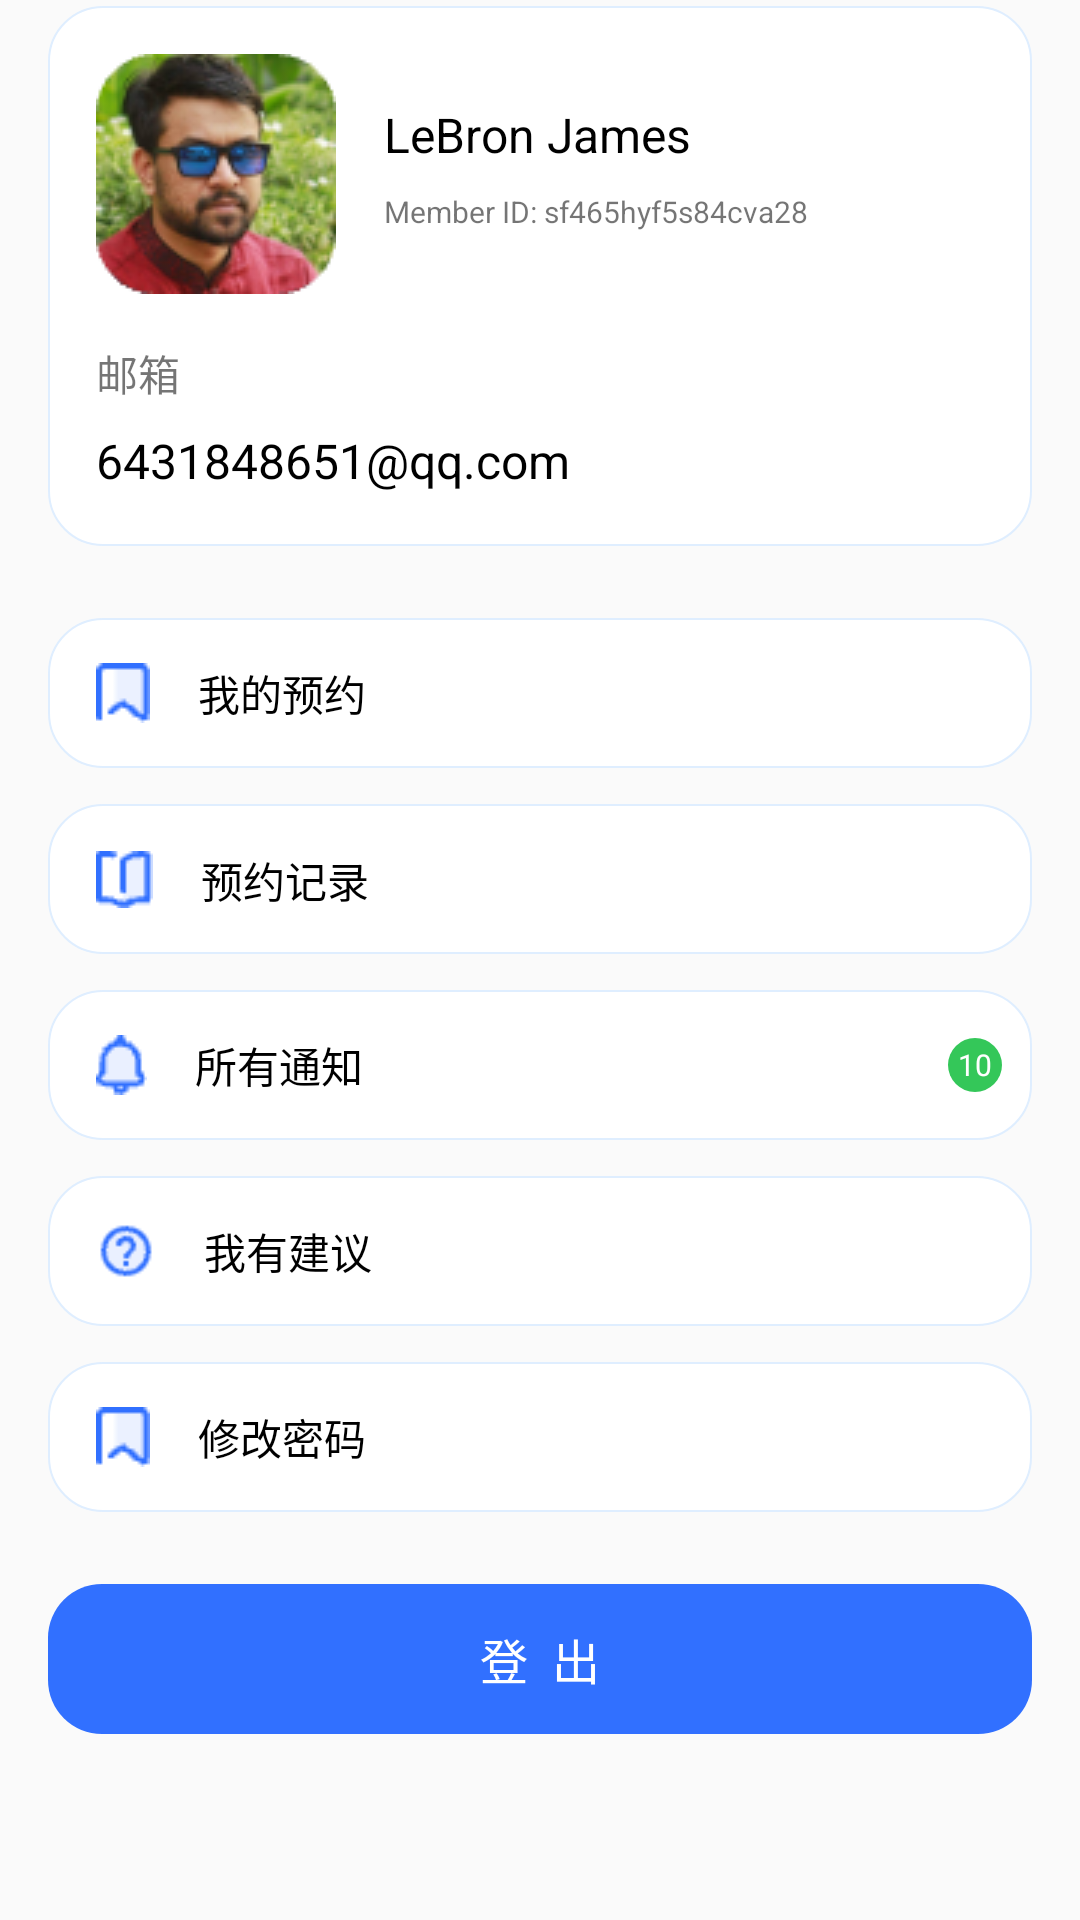

Icons on this 1080w x 1920h Android screen, each with the point to tap as [x,y]:
book record: [124,879]
notification: [121,1065]
support: [126,1251]
user: [216,174]
